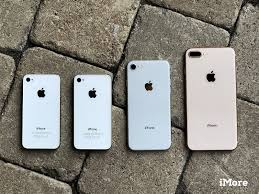iphone: (183, 44, 238, 151), (124, 56, 174, 153), (72, 74, 113, 155), (21, 72, 62, 153)
